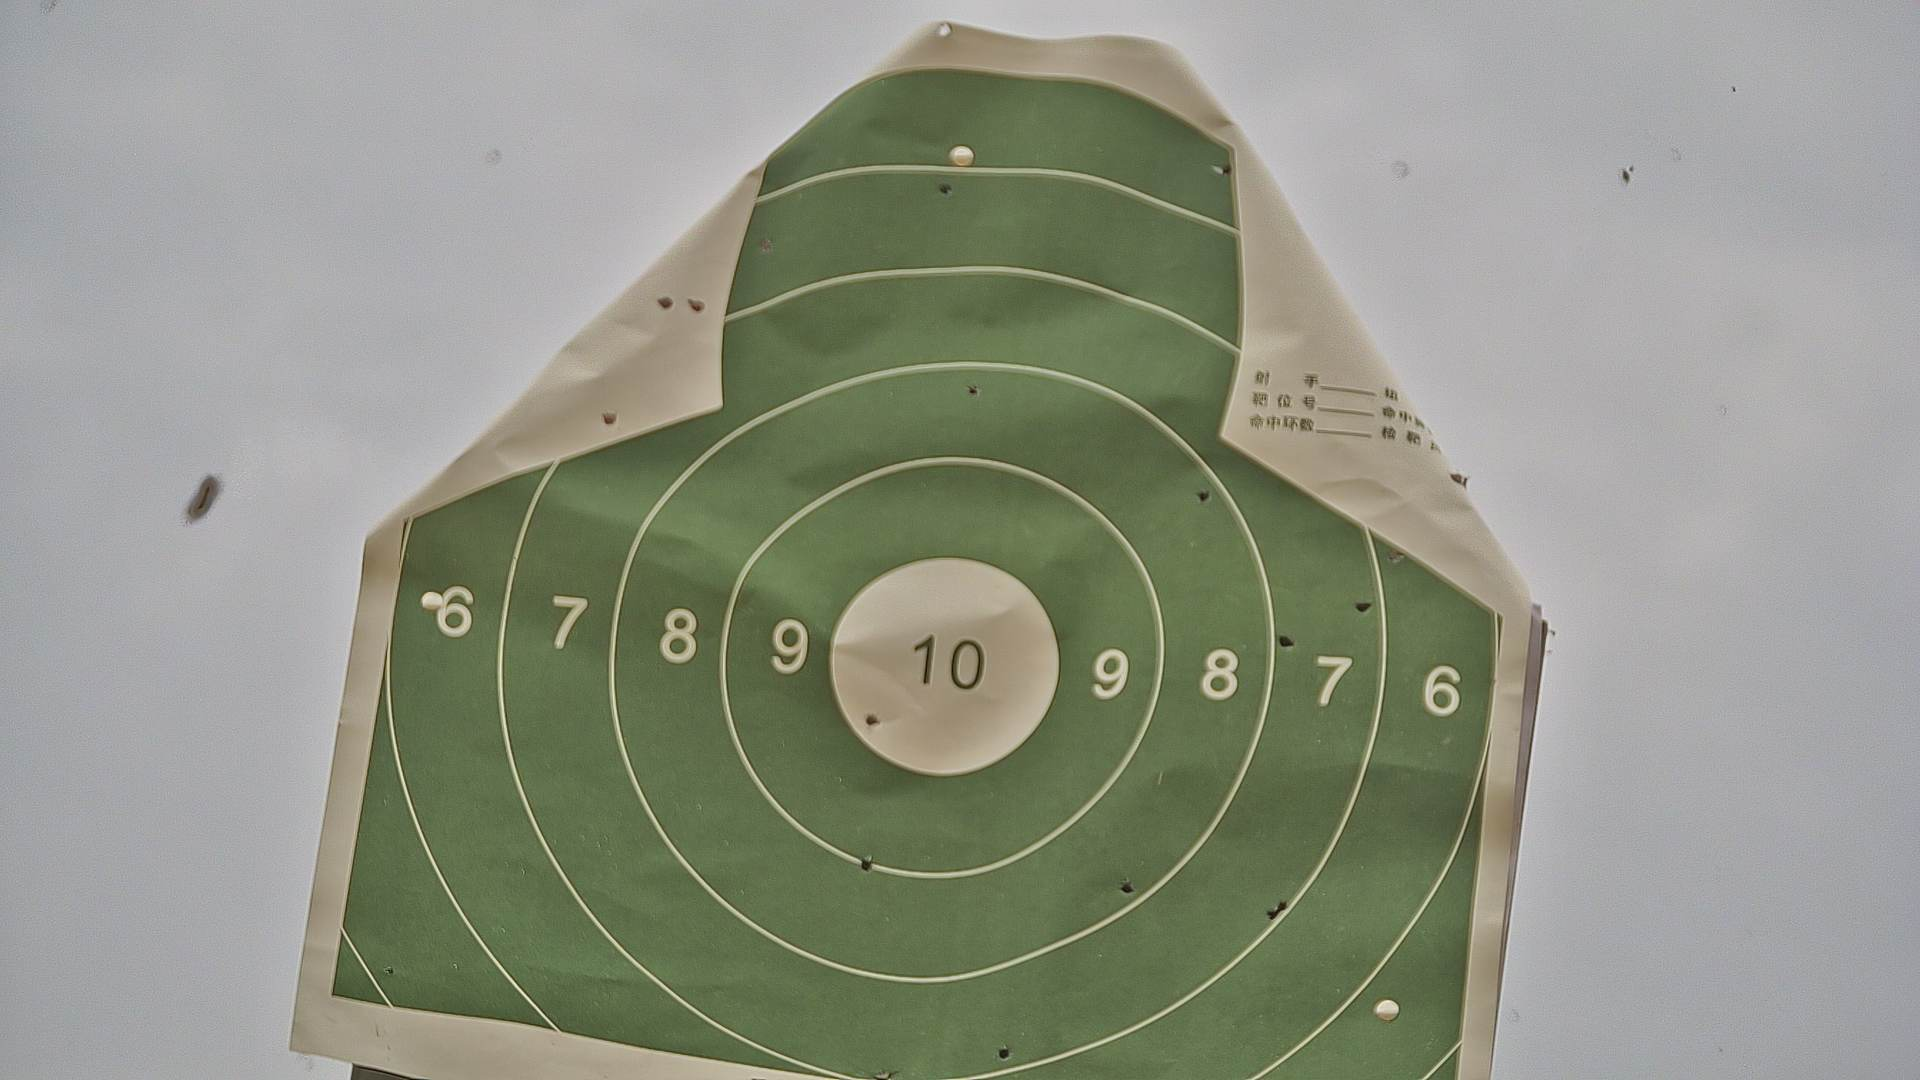hole: (1383, 549, 1402, 564), (1278, 633, 1294, 650), (1193, 489, 1211, 504), (934, 182, 952, 194), (967, 384, 980, 398), (865, 713, 880, 727), (1120, 880, 1133, 894), (1356, 600, 1371, 612), (860, 856, 872, 872), (997, 1047, 1013, 1059), (1211, 164, 1228, 174), (760, 237, 773, 251), (1265, 909, 1278, 920), (1276, 899, 1287, 911), (385, 965, 394, 975)
kernel: (938, 661, 948, 667)
target: (327, 67, 1503, 1080)
ten: (825, 555, 1062, 775)
